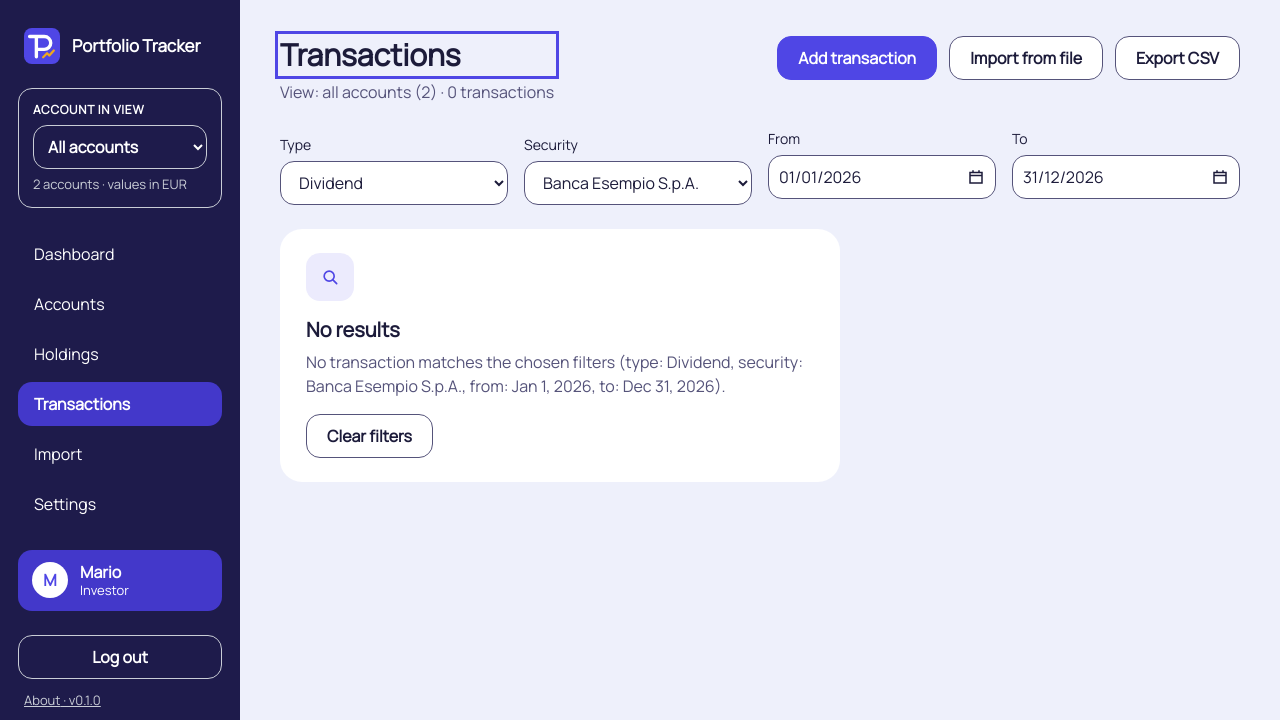
Test: transactions list › no results: the filters named and “Clear filters” in the card (mockup 19)
This screenshot has width=1280, height=720.
Expected: the element "No results" shows "No transaction matches the chosen filters (type: Dividend, security: Banca Esempio S.p.A., from: Jan 1, 2026, to: Dec 31, 2026).", x1=306 y1=350 x2=803 y2=396
Click the button "Clear filters" at coordinates (369, 436), box x1=306 y1=414 x2=433 y2=458
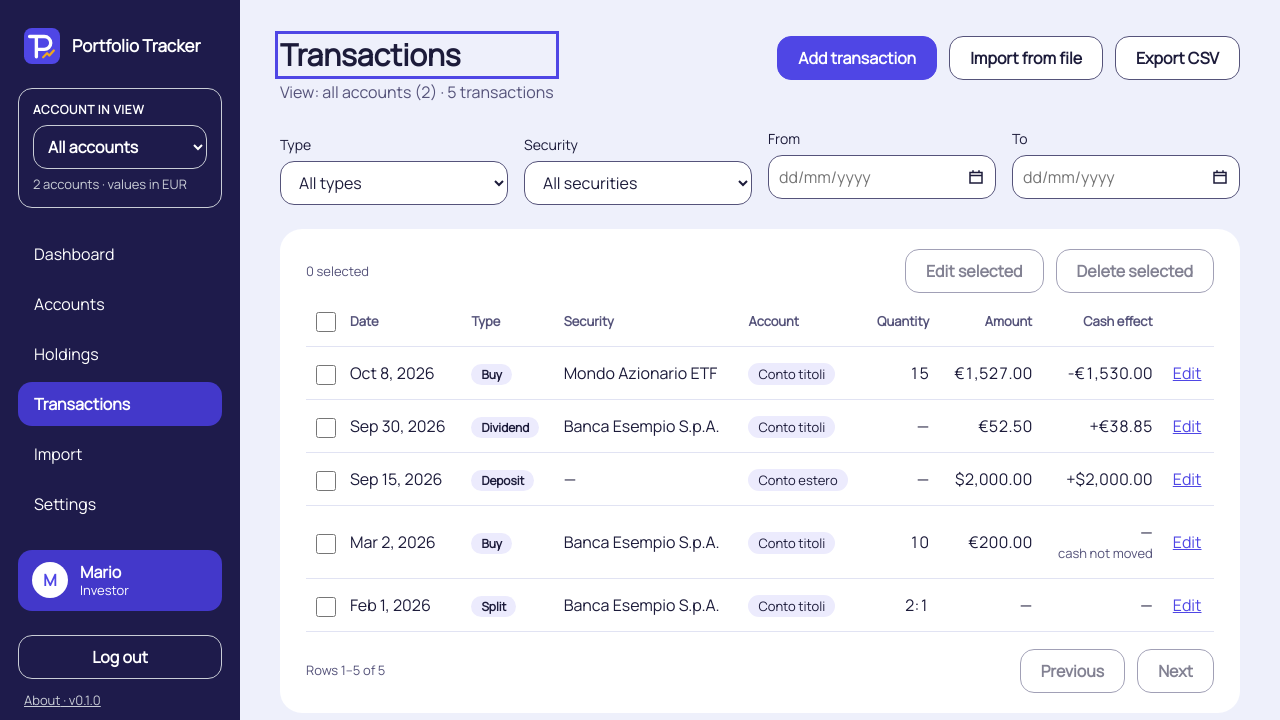
Now the text "View: all accounts (2) · 5 transactions" is shown, box x1=280 y1=80 x2=554 y2=104
